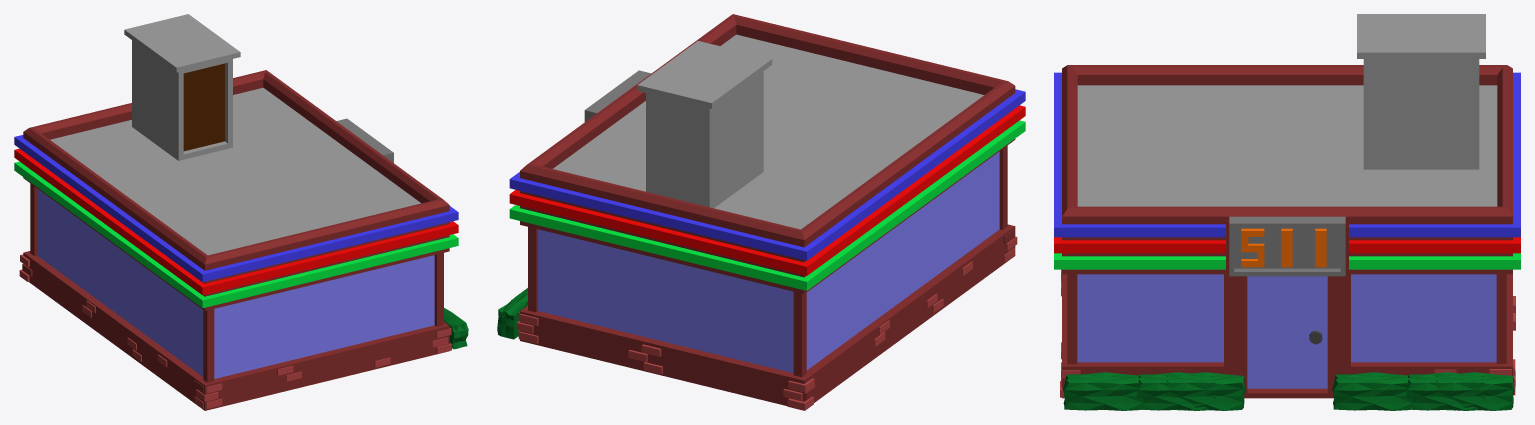
File: 5-Eleven.FBX
3 views of the same model, side by side, from view 1: azimuth 30°, elevation 25°; view 2: azimuth 150°, elevation 25°; view 3: azimuth 270°, elevation 25° (orthographic). The views are drawn at different scales.
Visible parts, largest first — view 1: 511; view 2: 511; view 3: 511.
Boxes of the visible parts, x1,y1,x2,y2 form: 511: (14, 14, 468, 410); 511: (497, 14, 1025, 410); 511: (1054, 14, 1520, 410).
Size of the model in its own units: 306 by 252 by 367.
Materials: 1 (1 with a texture image).
